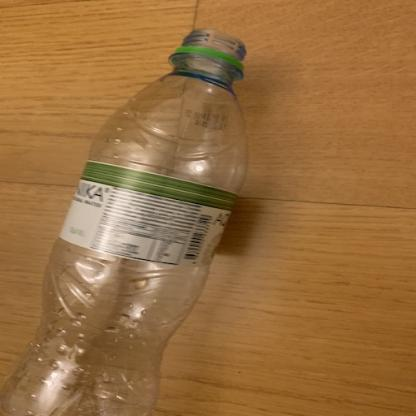trash: (4, 15, 258, 416)
